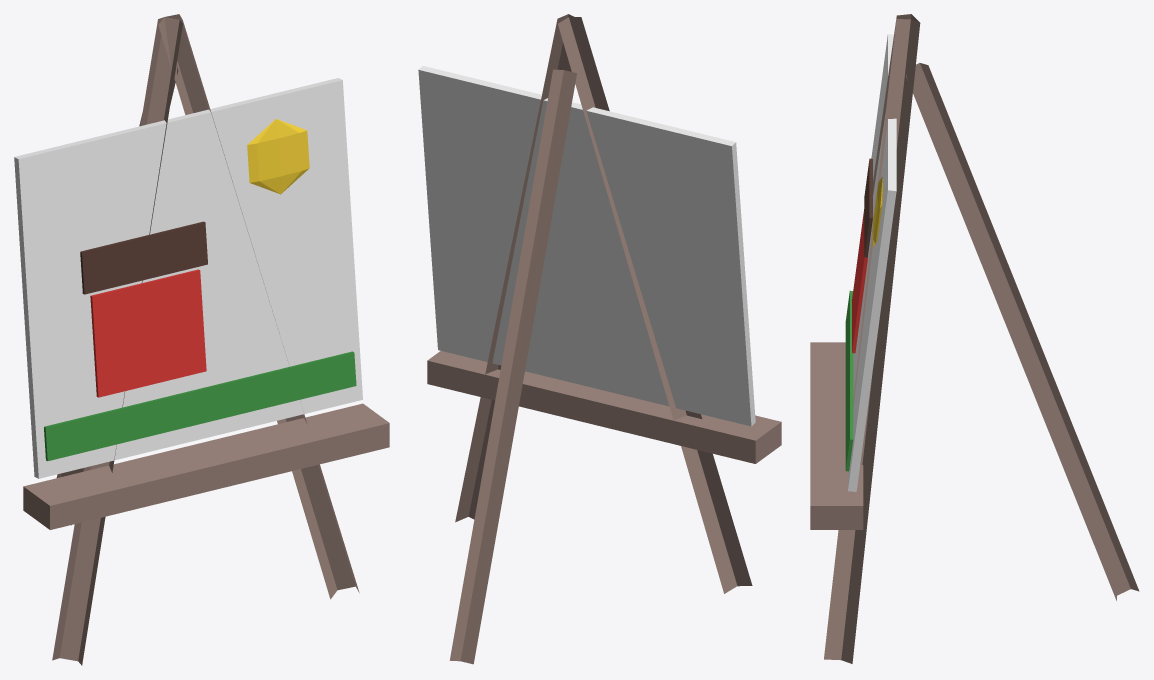
Rendered from teckning.glb.
3 renders of one model, left to right at view 1: azimuth 30°, elevation 25°; view 2: azimuth 150°, elevation 25°; view 3: azimuth 270°, elevation 25°, orthographic. The views are drawn at different scales.
Visible parts, largest first — view 1: teckning; view 2: teckning; view 3: teckning.
Part boxes in pixels (x1=…): teckning: x1=14, y1=14, x2=389, y2=665; teckning: x1=418, y1=14, x2=781, y2=664; teckning: x1=810, y1=14, x2=1139, y2=663.
Size of the model in its own units: 0.44 by 0.7282 by 0.3741.
